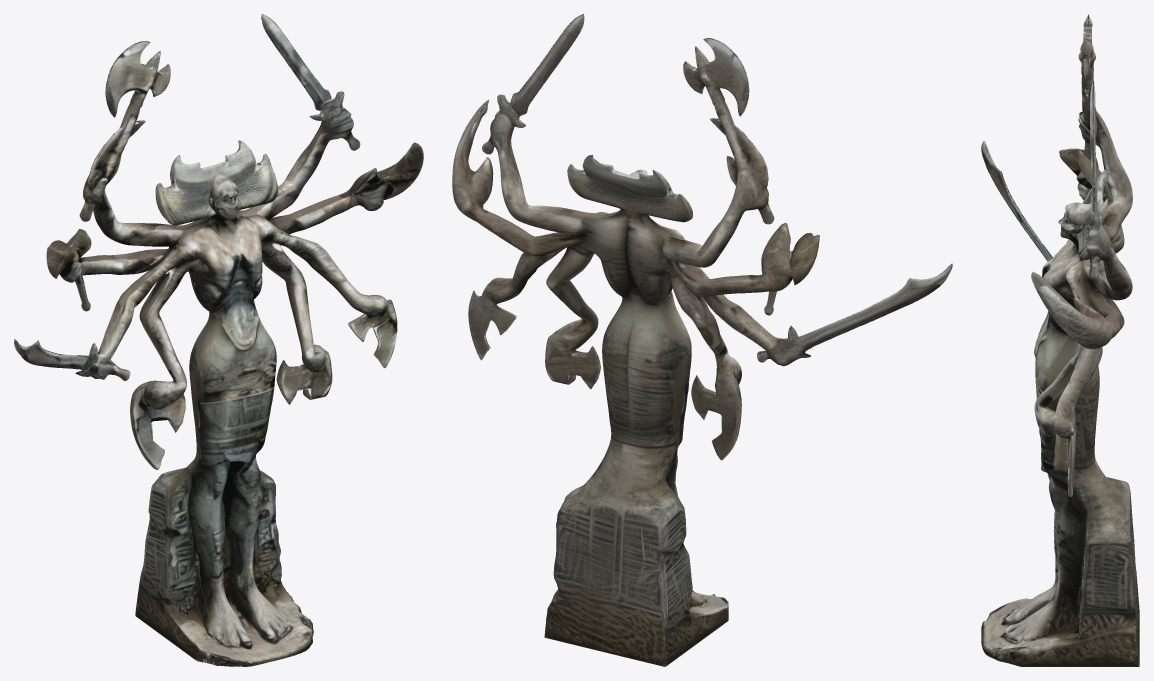
Rendered from Statua.glb.
3 renders of one model, left to right at view 1: azimuth 30°, elevation 25°; view 2: azimuth 150°, elevation 25°; view 3: azimuth 270°, elevation 25°, orthographic. The views are drawn at different scales.
Parts seen in each view (by area): view 1: model; view 2: model; view 3: model.
Part boxes in pixels (x1,y1,x2,y2): model: [14, 14, 423, 666]; model: [452, 14, 952, 666]; model: [981, 14, 1139, 666].
Size of the model in its own units: 1.47 by 1.9 by 0.4672.
Materials: 1 (1 with a texture image).
